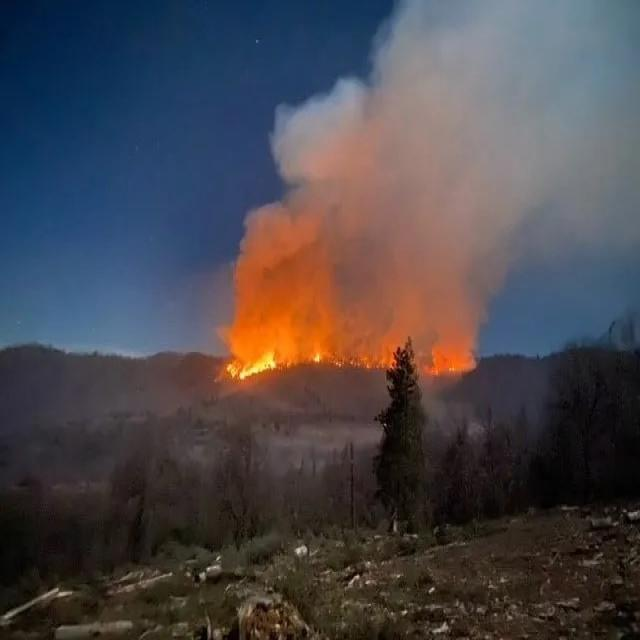Fire: (228, 325, 480, 380)
Smoke: (226, 0, 640, 328)
